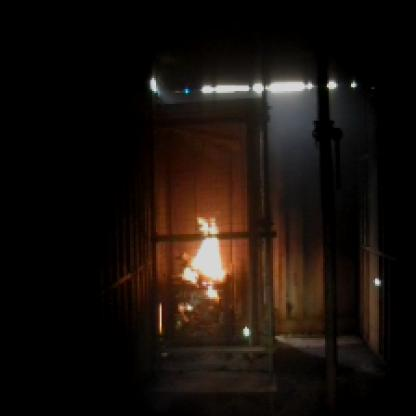Fire: (182, 214, 227, 310)
